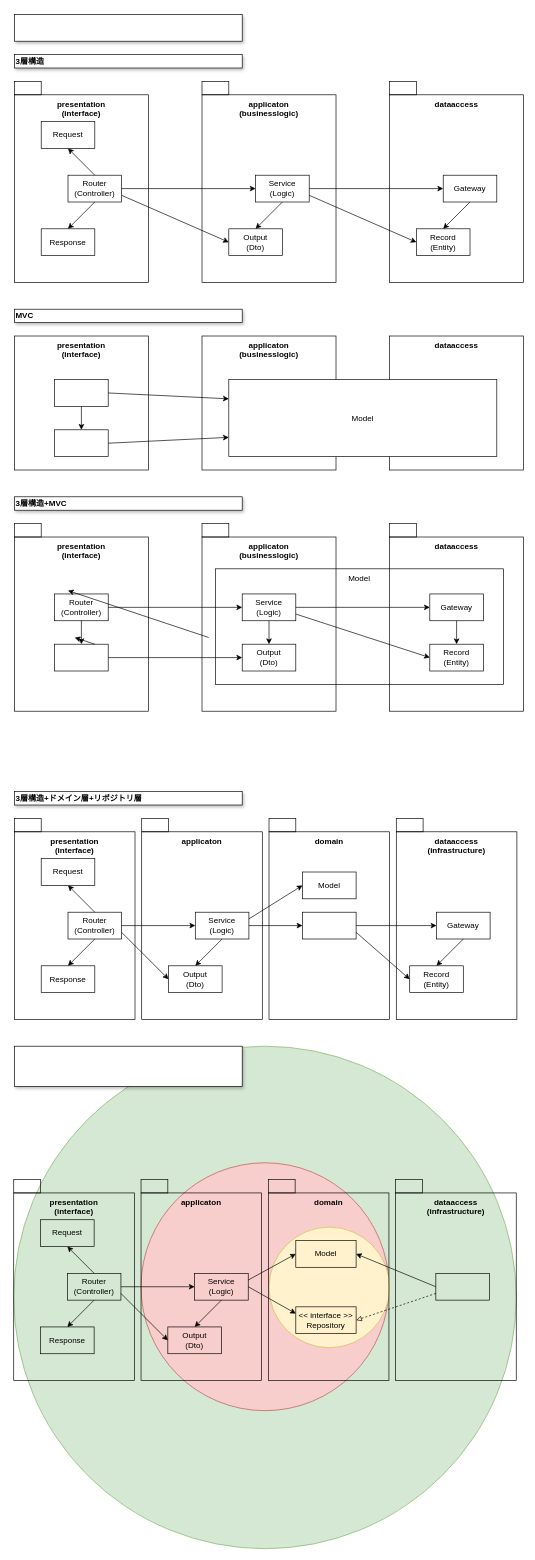
This 535x1560 diagram has some shape labels left out. The centre of each missing label's shape, as x and y in pixels:
Controller: the point at 81,392
domain層は独立させたいため、infrastructureから逆依存へ →ヘキサゴナルアーキテクチャ・オニオンアーキテクチャ・クリーンアーキテクチャ: the point at 128,1067
MySQL Repository: the point at 462,1286
Repository: the point at 329,925
Response (View): the point at 81,657
View: the point at 81,443
アーキテクチャ: the point at 128,28
